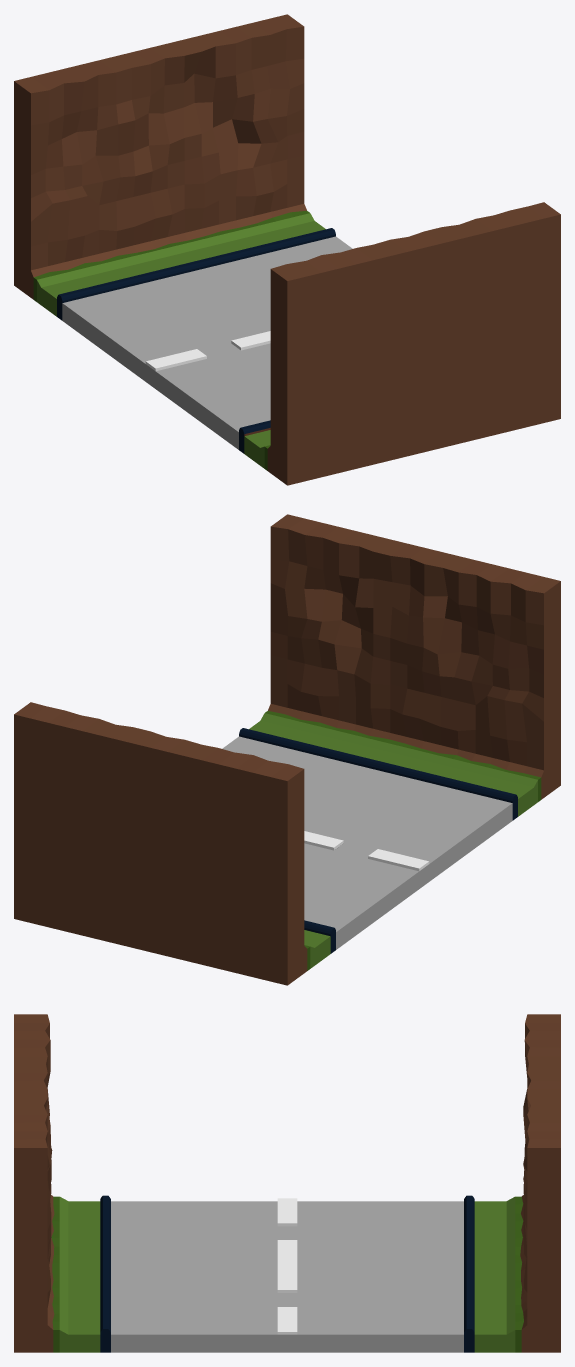
File: NewRoad.fbx
3 views of the same model, one above another, from view 1: azimuth 30°, elevation 25°; view 2: azimuth 150°, elevation 25°; view 3: azimuth 270°, elevation 25° (orthographic).
Parts seen in each view (by area): view 1: Cube; view 2: Cube; view 3: Cube.
Boxes of the visible parts, x1,y1,x2,y2 form: Cube: (14, 14, 560, 485); Cube: (14, 514, 560, 985); Cube: (14, 1014, 560, 1352).
Bounding box in the file's own units: 1606 × 1151 × 2782.
1 material, 1 textured.
